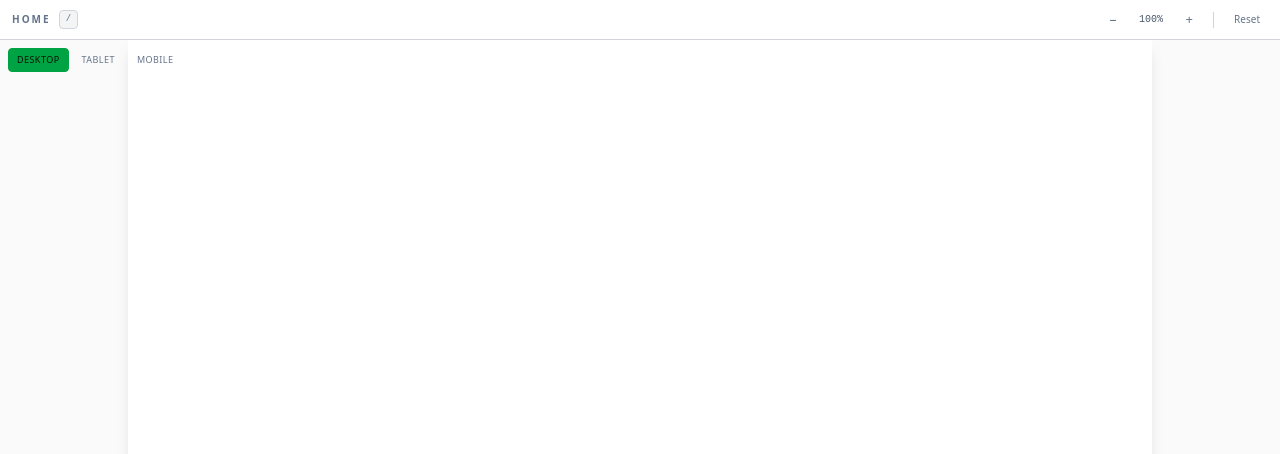
Test: VisualEditorCanvas › resets zoom and pan when Reset button is clicked
Note: Zoom in first
Click the button "+" at {"x": 1189, "y": 20}, box top-left (1177, 8), bottom-right (1201, 32)
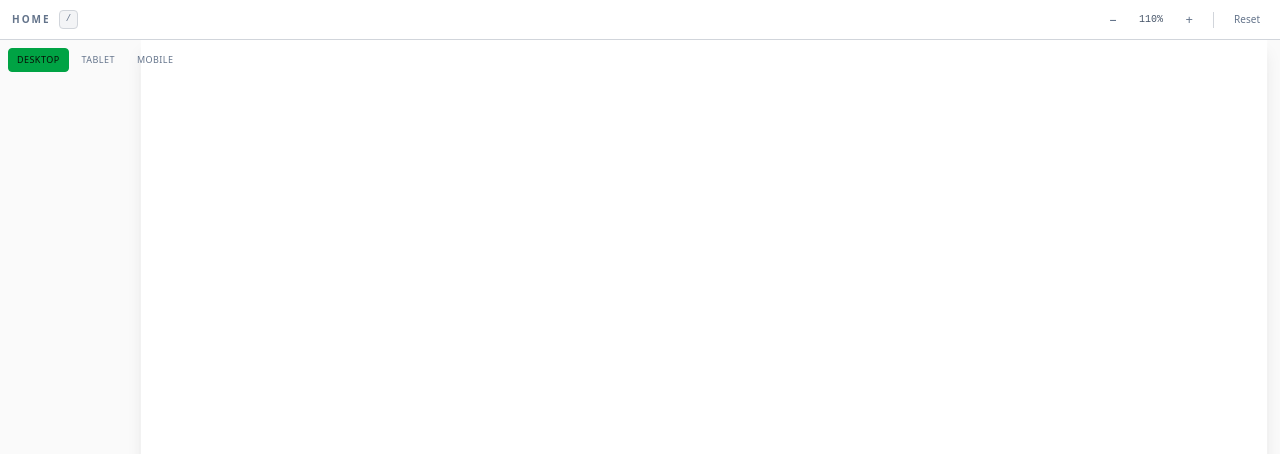
Now the text "110%" is shown, box top-left (1139, 14), bottom-right (1163, 25)
Click the button "Reset" at {"x": 1247, "y": 20}, box top-left (1226, 8), bottom-right (1268, 32)
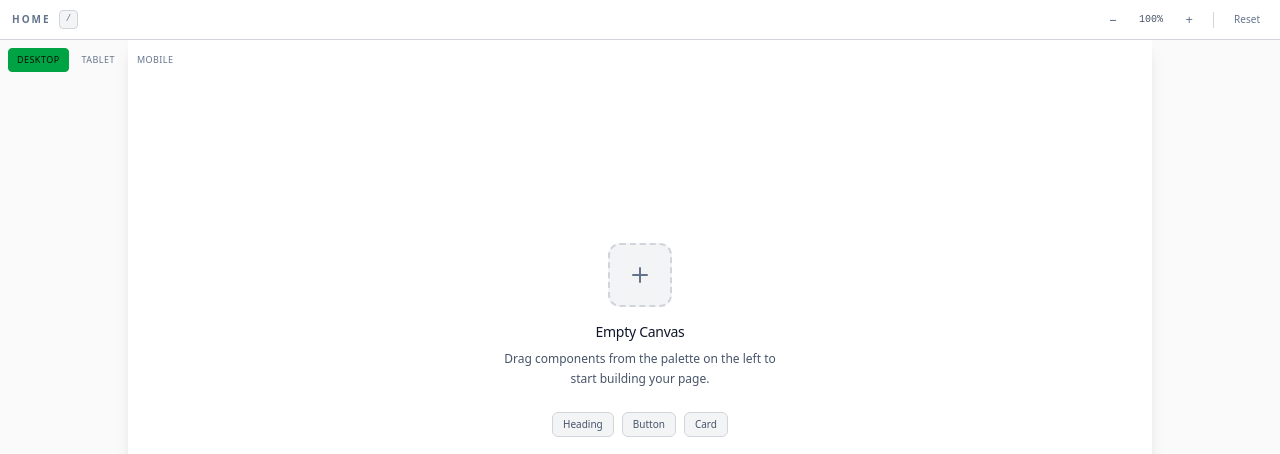
Now the text "100%" is shown, box top-left (1139, 14), bottom-right (1163, 25)
